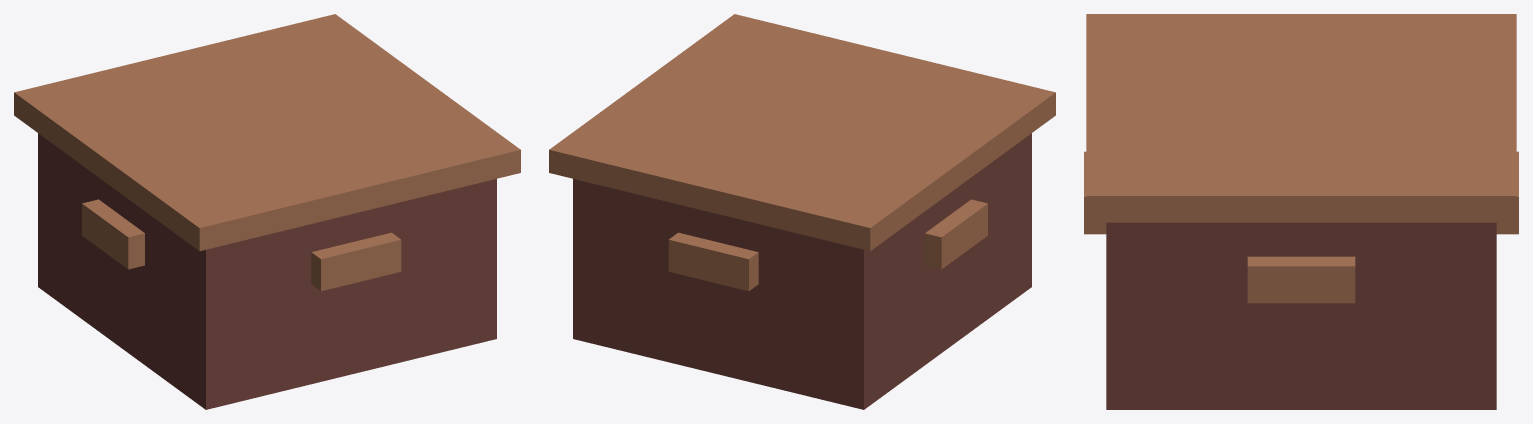
The model's file is Counter.fbx.
3 views of the same model, side by side, from view 1: azimuth 30°, elevation 25°; view 2: azimuth 150°, elevation 25°; view 3: azimuth 270°, elevation 25° (orthographic). The views are drawn at different scales.
Parts seen in each view (by area): view 1: Counter; view 2: Counter; view 3: Counter.
Boxes of the visible parts, x1,y1,x2,y2 form: Counter: [14, 14, 520, 409]; Counter: [549, 14, 1055, 409]; Counter: [1084, 14, 1518, 409].
Bounding box in the file's own units: 2.02 × 2.02 × 1.14.
